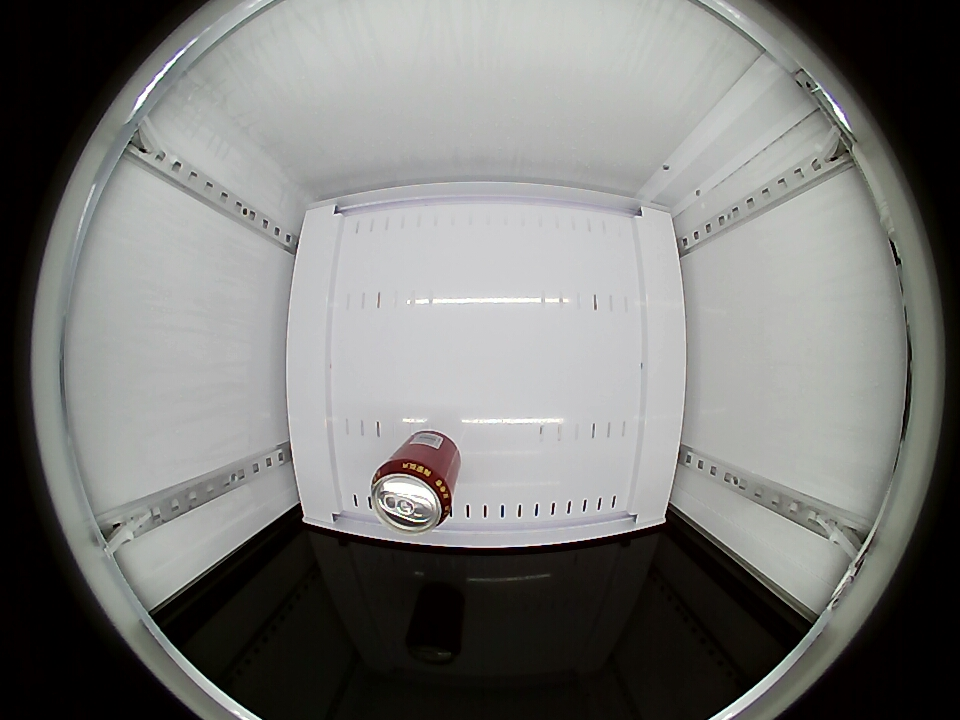wanglaoji-c: (369, 456, 455, 534)
